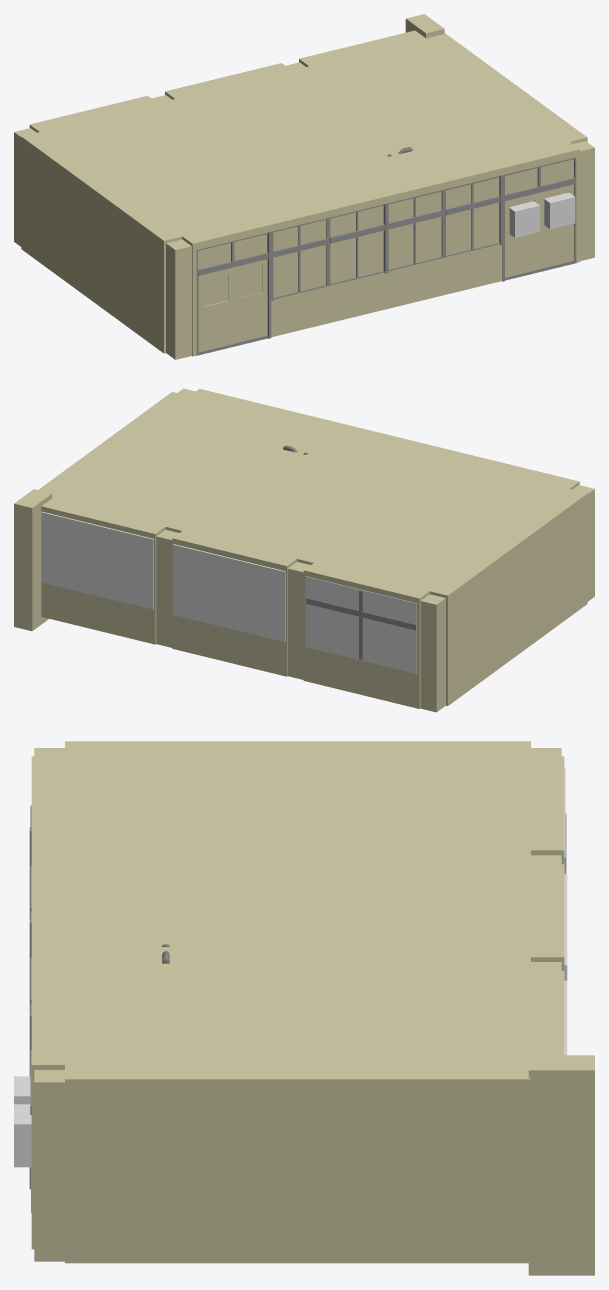
The model's file is classroom.glb.
The picture shows the model from 3 angles, top to bottom: view 1: azimuth 30°, elevation 25°; view 2: azimuth 150°, elevation 25°; view 3: azimuth 270°, elevation 25°; orthographic projection. The views are drawn at different scales.
Visible parts, largest first — view 1: 教室.002, 教室.001, ドア.001, ドア, 窓.004, 窓.006, 窓.005, 立方体.004, 立方体.003, 柱; view 2: 教室.002, 窓ガラス, 教室.001, 柱, 窓.003; view 3: 教室.002, 柱, 教室.001, 立方体.004, 窓ガラス.
Boxes of the visible parts, left/top/right/bottom form: 教室.002: left=21, top=30, right=587, bottom=356; 教室.001: left=14, top=62, right=594, bottom=359; ドア.001: left=198, top=259, right=267, bottom=352; ドア: left=505, top=184, right=574, bottom=277; 窓.004: left=196, top=218, right=328, bottom=355; 窓.006: left=444, top=157, right=576, bottom=281; 窓.005: left=328, top=189, right=443, bottom=285; 立方体.004: left=544, top=192, right=575, bottom=229; 立方体.003: left=509, top=201, right=539, bottom=237; 柱: left=405, top=14, right=444, bottom=38; 教室.002: left=38, top=389, right=587, bottom=708; 窓ガラス: left=41, top=511, right=416, bottom=673; 教室.001: left=156, top=388, right=594, bottom=712; 柱: left=14, top=489, right=52, bottom=631; 窓.003: left=306, top=590, right=415, bottom=659; 教室.002: left=31, top=741, right=564, bottom=1263; 柱: left=528, top=1055, right=594, bottom=1275; 教室.001: left=34, top=748, right=561, bottom=1261; 立方体.004: left=14, top=1104, right=31, bottom=1167; 窓ガラス: left=564, top=767, right=567, bottom=1055.
Bounding box in the file's own units: 12.12 × 3.43 × 8.81.
